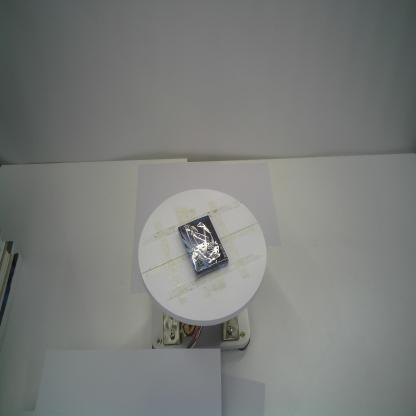Gum: (174, 211, 230, 280)
